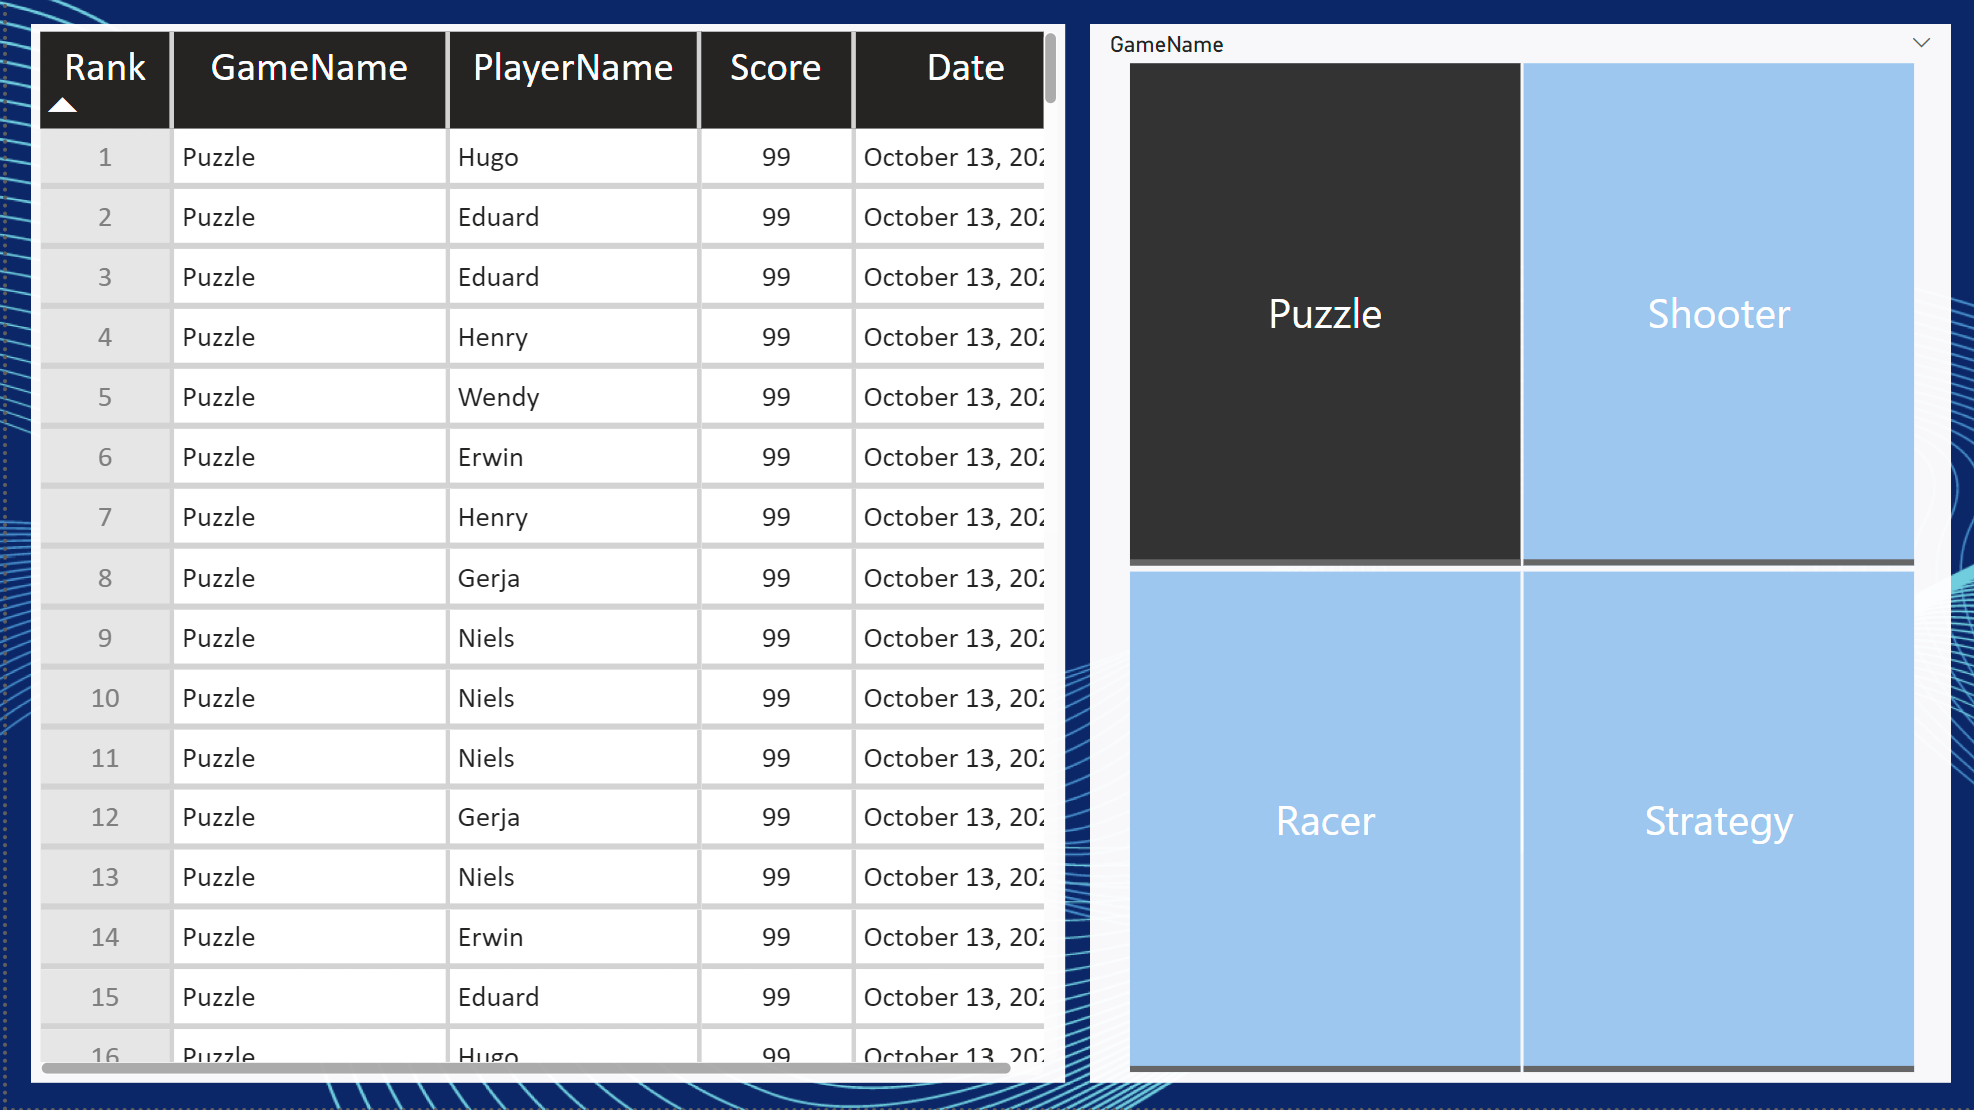

This screenshot's page, from the dashboard's own definition file:
{"tool":"powerbi","page":{"name":"1.\tLeaderboard Table","canvas":[1280,720],"ordinal":0},"visuals":[{"type":"tableEx","fields":{"Values":["GameAnalytics vw_TopScoresPerGame.Rank","GameAnalytics vw_TopScoresPerGame.GameName","GameAnalytics vw_TopScoresPerGame.PlayerName","GameAnalytics vw_TopScoresPerGame.Score","GameAnalytics vw_TopScoresPerGame.Date"]},"box":[16,16,672,688],"z":0},{"type":"slicer","fields":{"Values":["GameAnalytics vw_TopScoresPerGame.GameName"]},"box":[704,16,560,688],"z":1000}]}

Visuals, with their boxes in screenshot pixels (x1, y1, x2, y2), scaled from the page's 1280x720 canvas onto the 1974x1110 screenshot:
tableEx - GameAnalytics vw_TopScoresPerGame.Rank x GameAnalytics vw_TopScoresPerGame.GameName: [25,25,1061,1085]
slicer - GameAnalytics vw_TopScoresPerGame.GameName: [1086,25,1949,1085]
